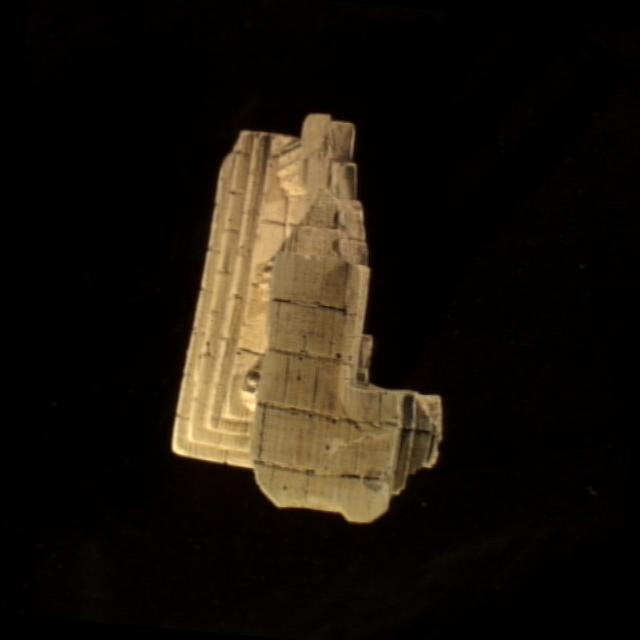Instance-Segmentation: (173, 113, 441, 522)
